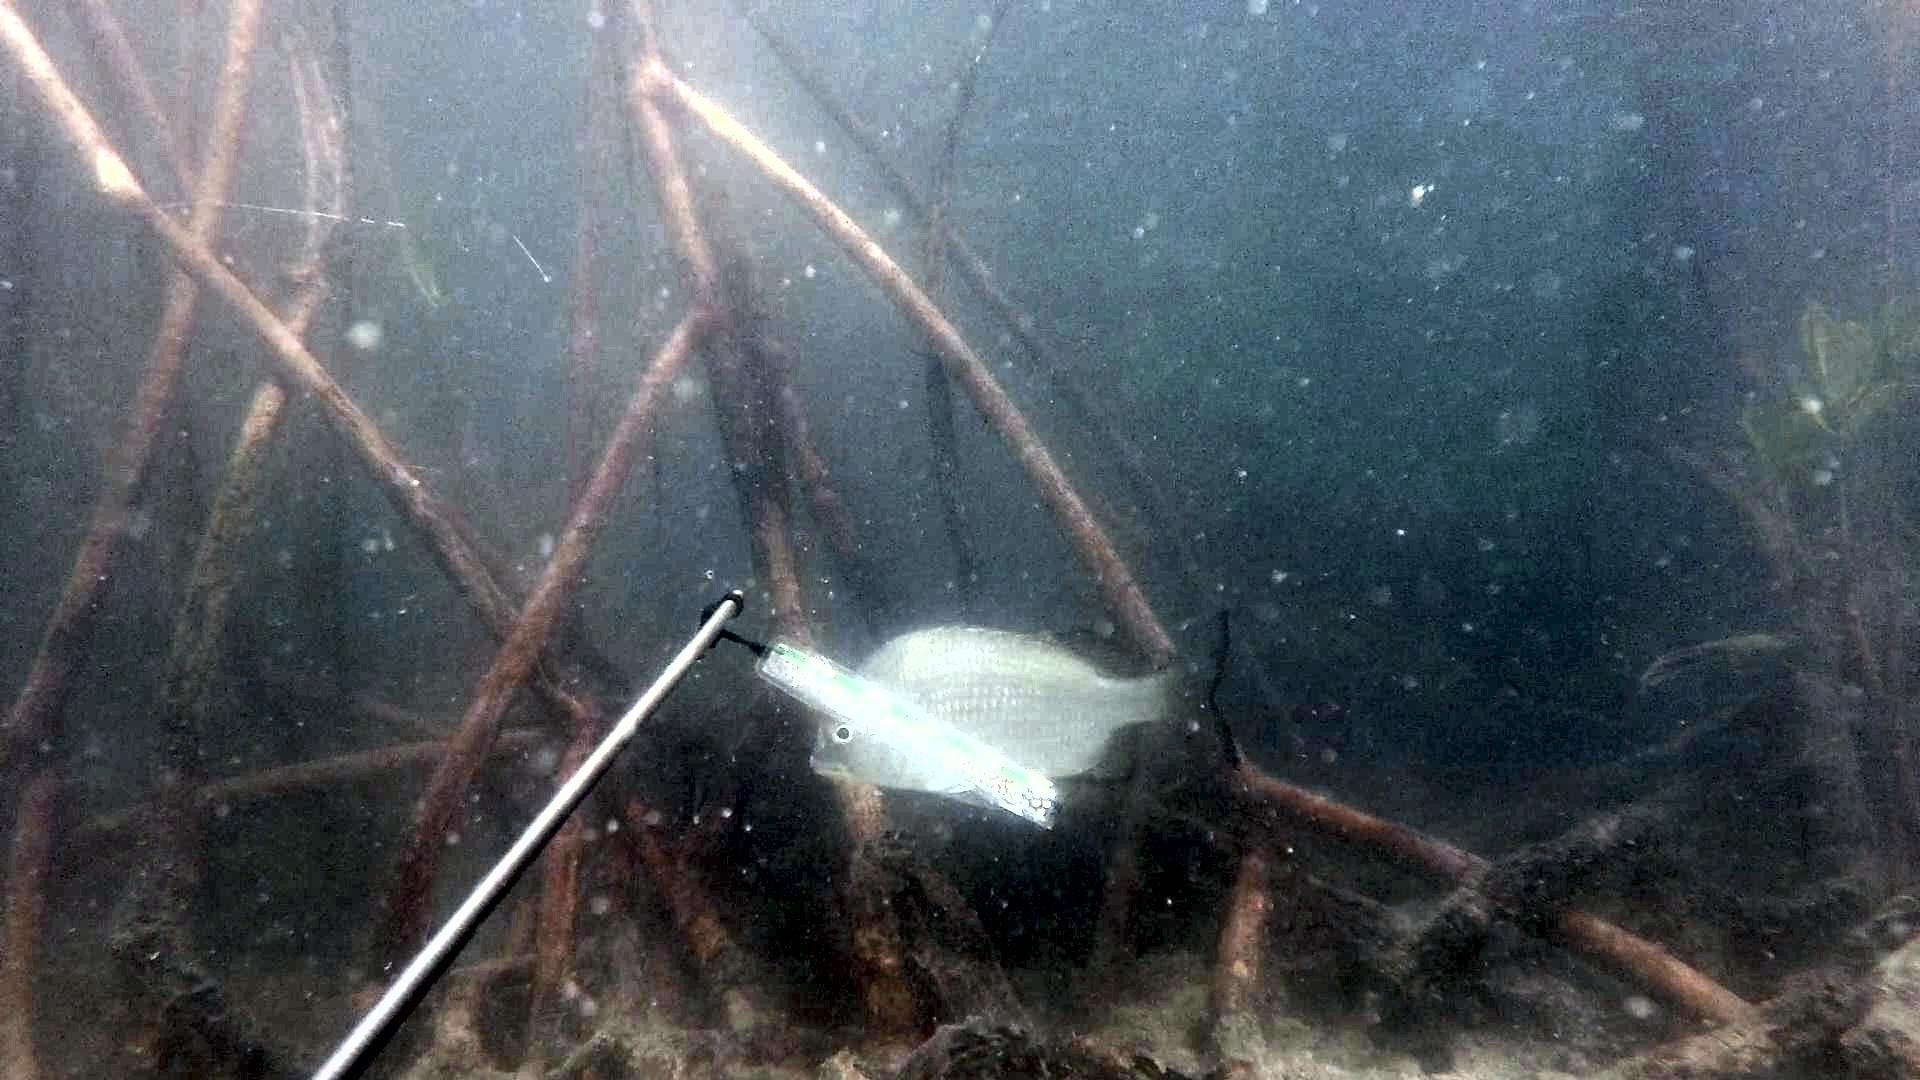acanthopagrus palmaris: (801, 598, 1258, 804)
